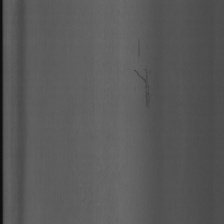water_spot: (129, 39, 156, 113)
